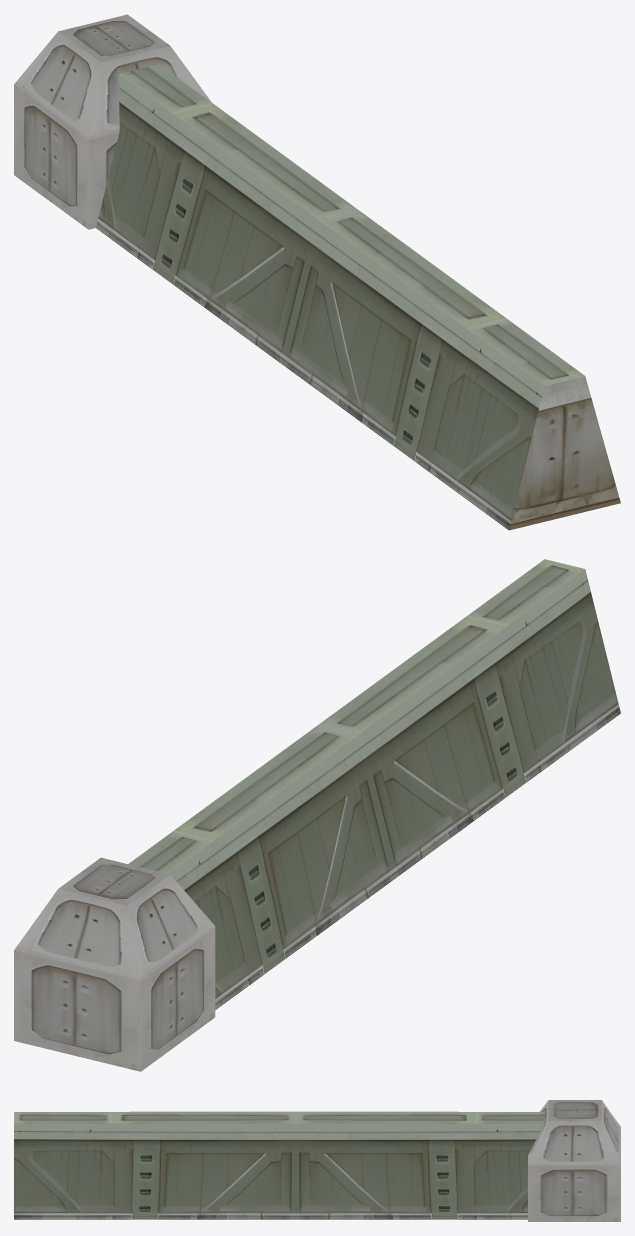
Rendered from l_lightwall_hdtex.glb.
The picture shows the model from 3 angles, top to bottom: view 1: azimuth 30°, elevation 25°; view 2: azimuth 150°, elevation 25°; view 3: azimuth 270°, elevation 25°; orthographic projection. The views are drawn at different scales.
Parts seen in each view (by area): view 1: L_LightWall; view 2: L_LightWall; view 3: L_LightWall.
Part boxes in pixels (box(x1,y1,x2,y2)): L_LightWall: box(14, 14, 620, 530); L_LightWall: box(14, 559, 620, 1071); L_LightWall: box(14, 1100, 620, 1221).
Size of the model in its own units: 4.16 by 4.63 by 27.68.
1 material, 1 textured.
